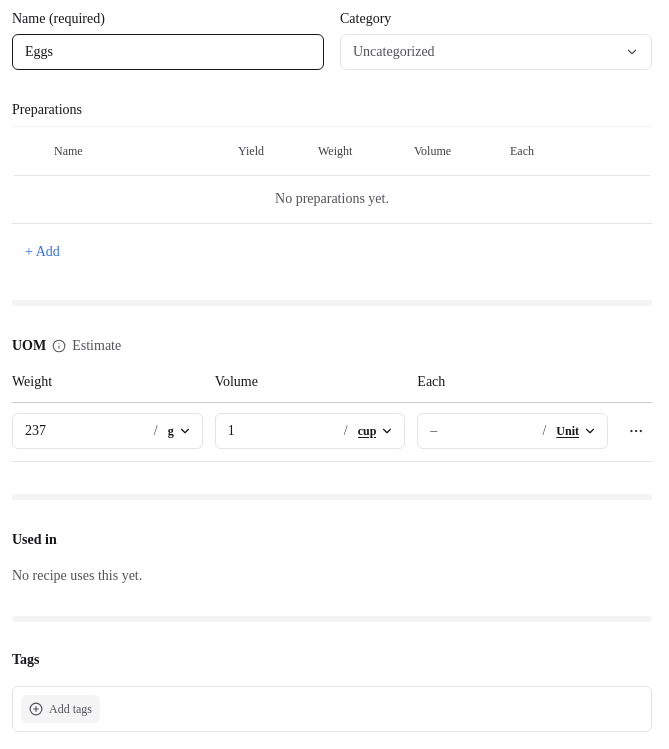
ingredient profile layouts › puts a refused conversion back to the one that landed, not the prop
Replace the text in the number field named "Weight amount" with "300" at (83,431), box [13,414,154,448]
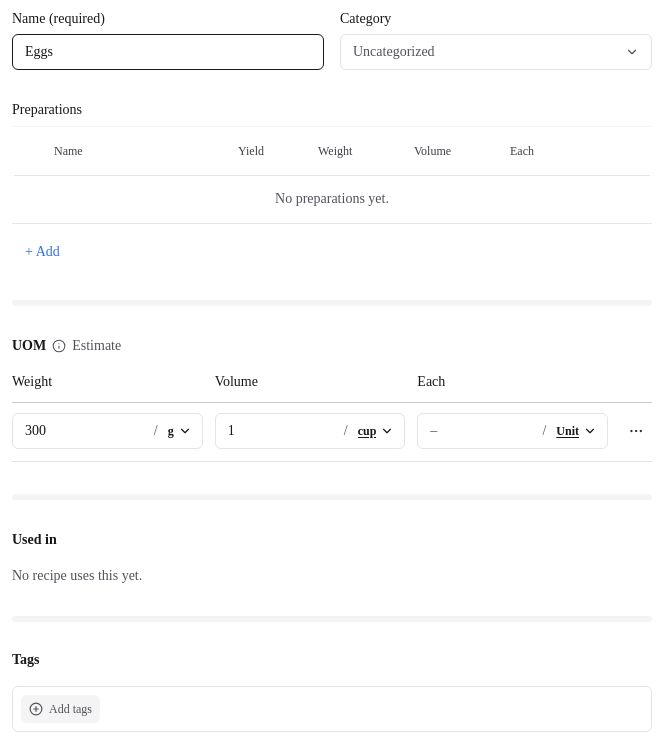
Replace the text in the number field named "Volume amount" with "2" at (280,431), box [216,414,344,448]
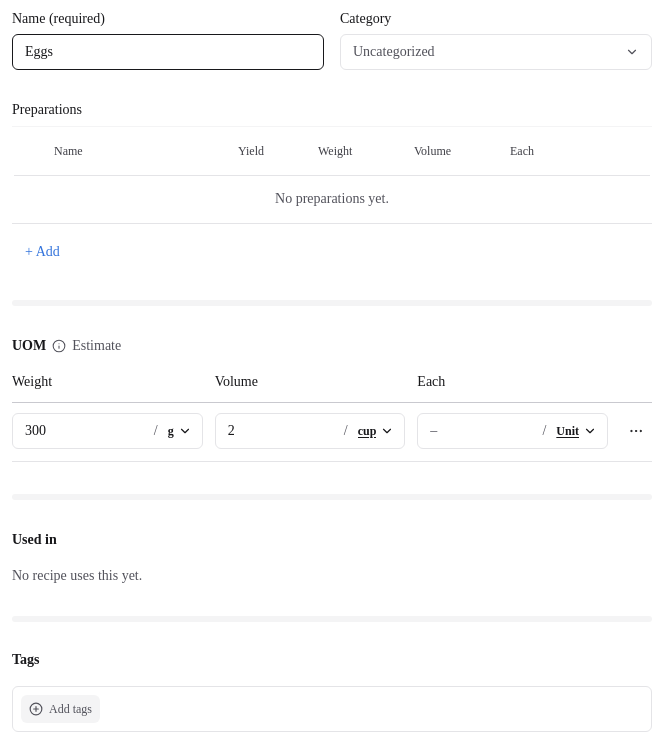
Leave the number field named "Volume amount", box [216,414,344,448]
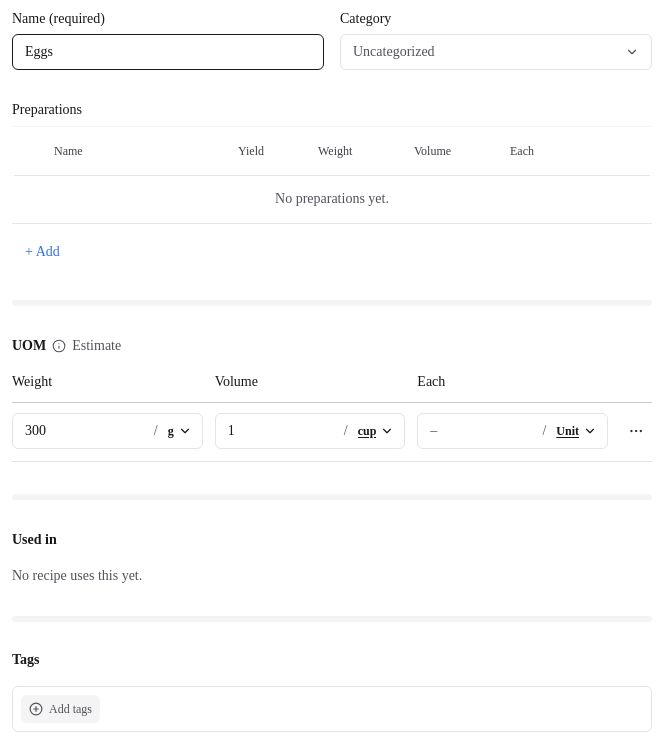
Check: the number field named "Volume amount" holds "1", box [216,414,344,448]
